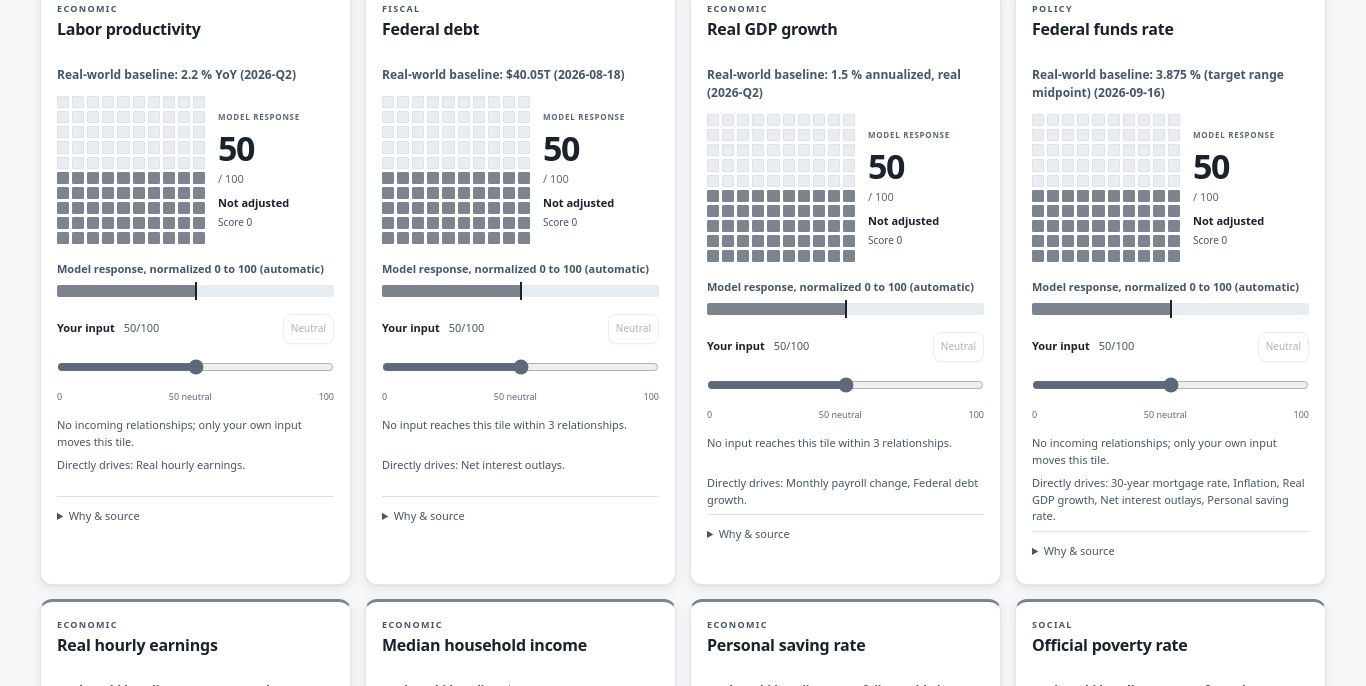
Test: share link copy › copies the current scenario link and confirms it in a status line
(page scrolled)
Set the 4th slider labelled "Your input" to "100" at (1301,385), box [1032,363,1309,407]
(page scrolled)
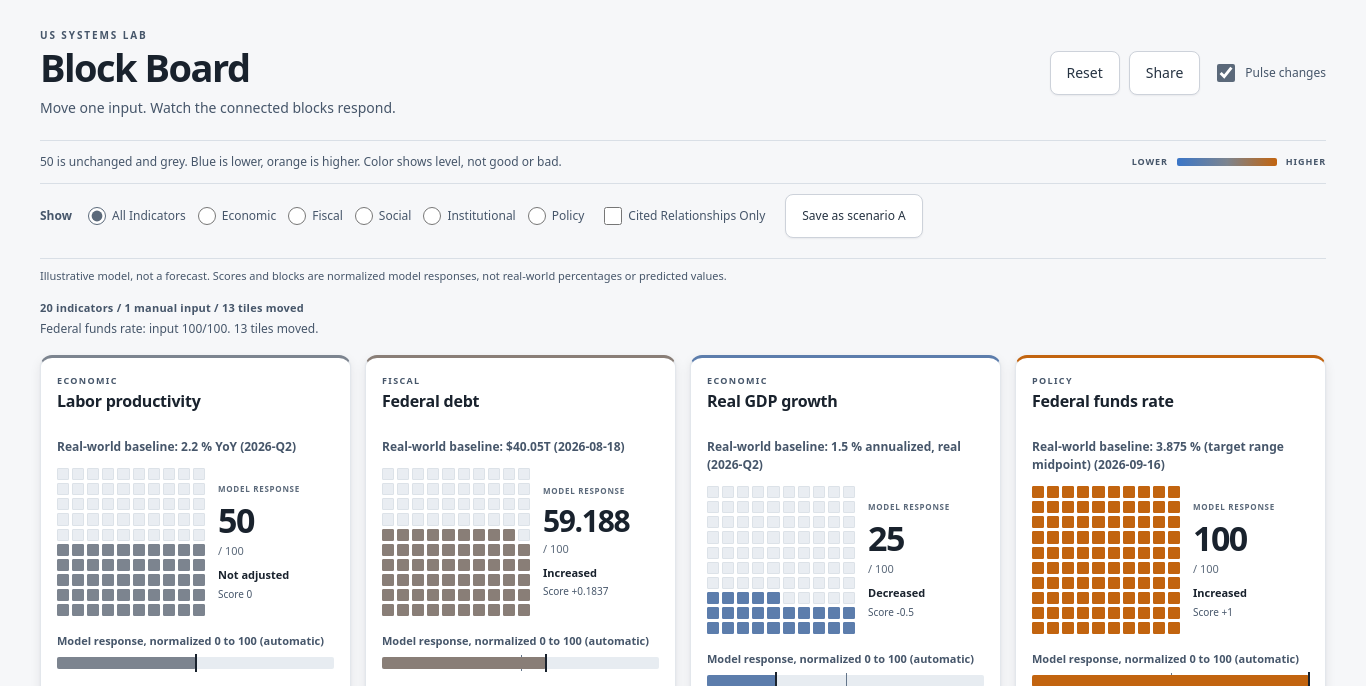
Click the button "Share".
click(1165, 73)  # box [1129,51,1200,95]
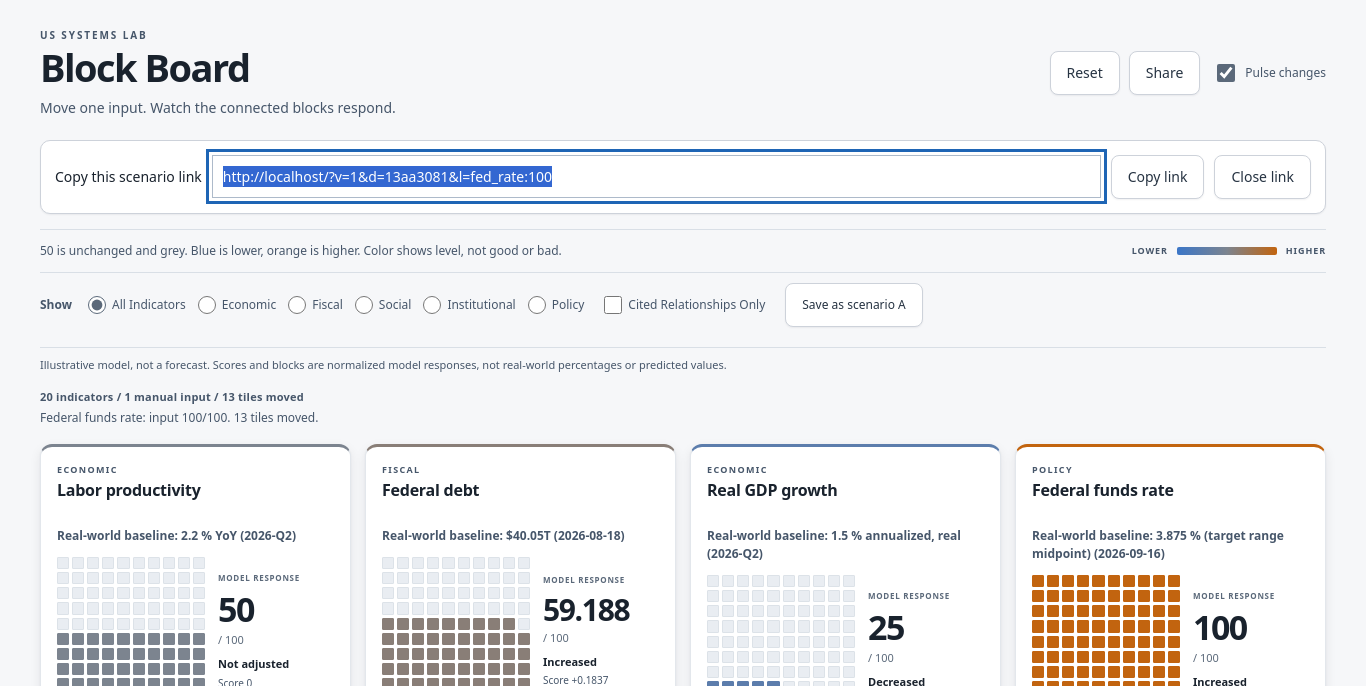
Click the button "Copy link".
click(1158, 177)  # box [1111,155,1204,199]
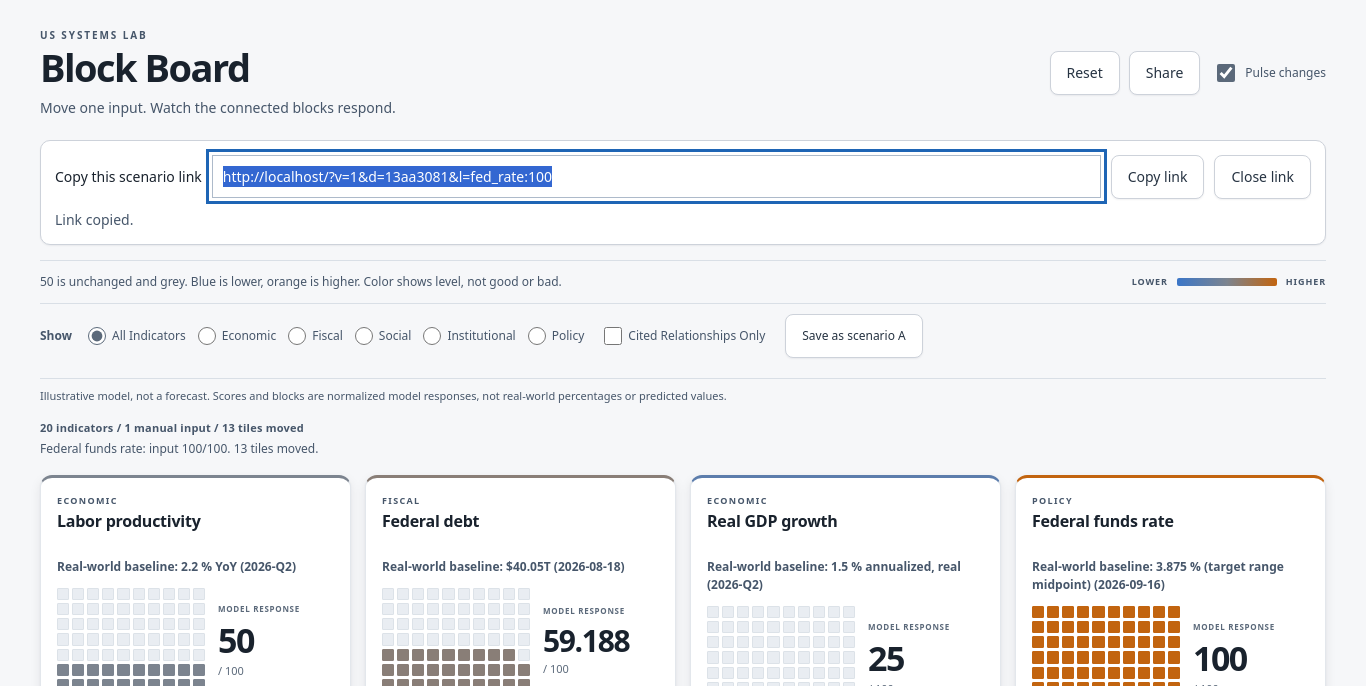
Expected: the message with class "bb-share-status" reads "Link copied.", [55,210,133,229]
